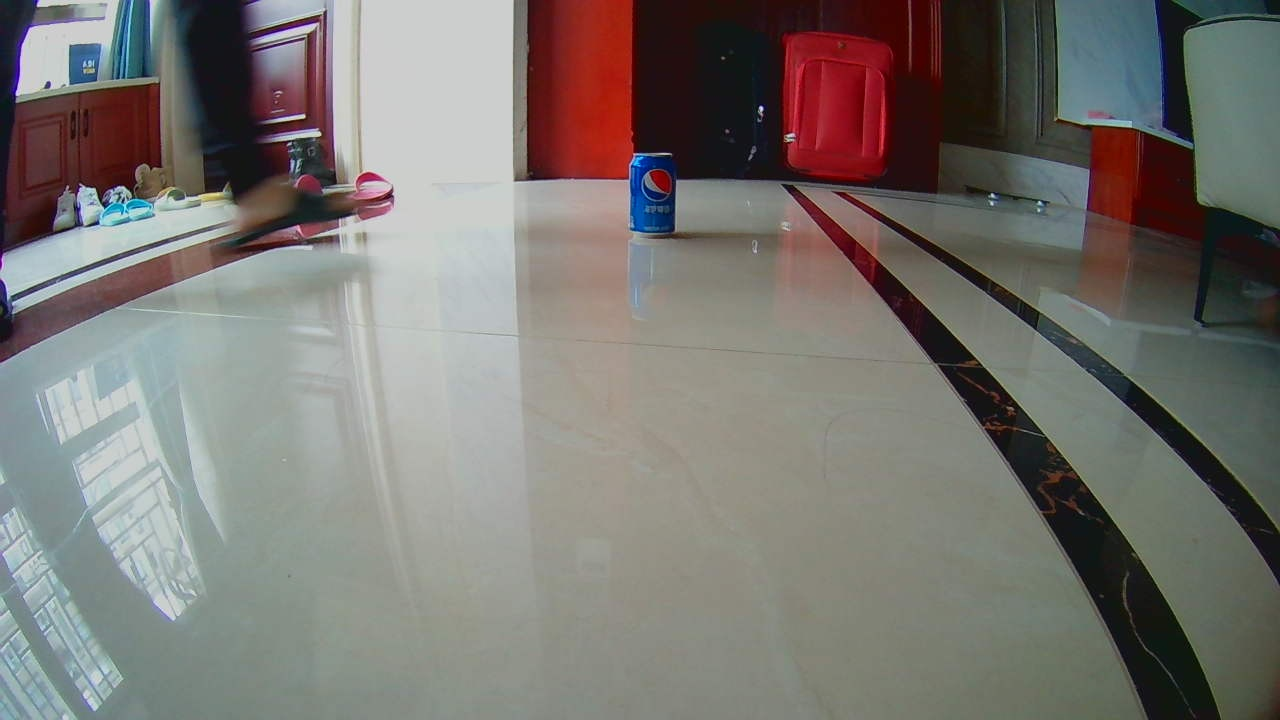pessi: (629, 152, 673, 232)
